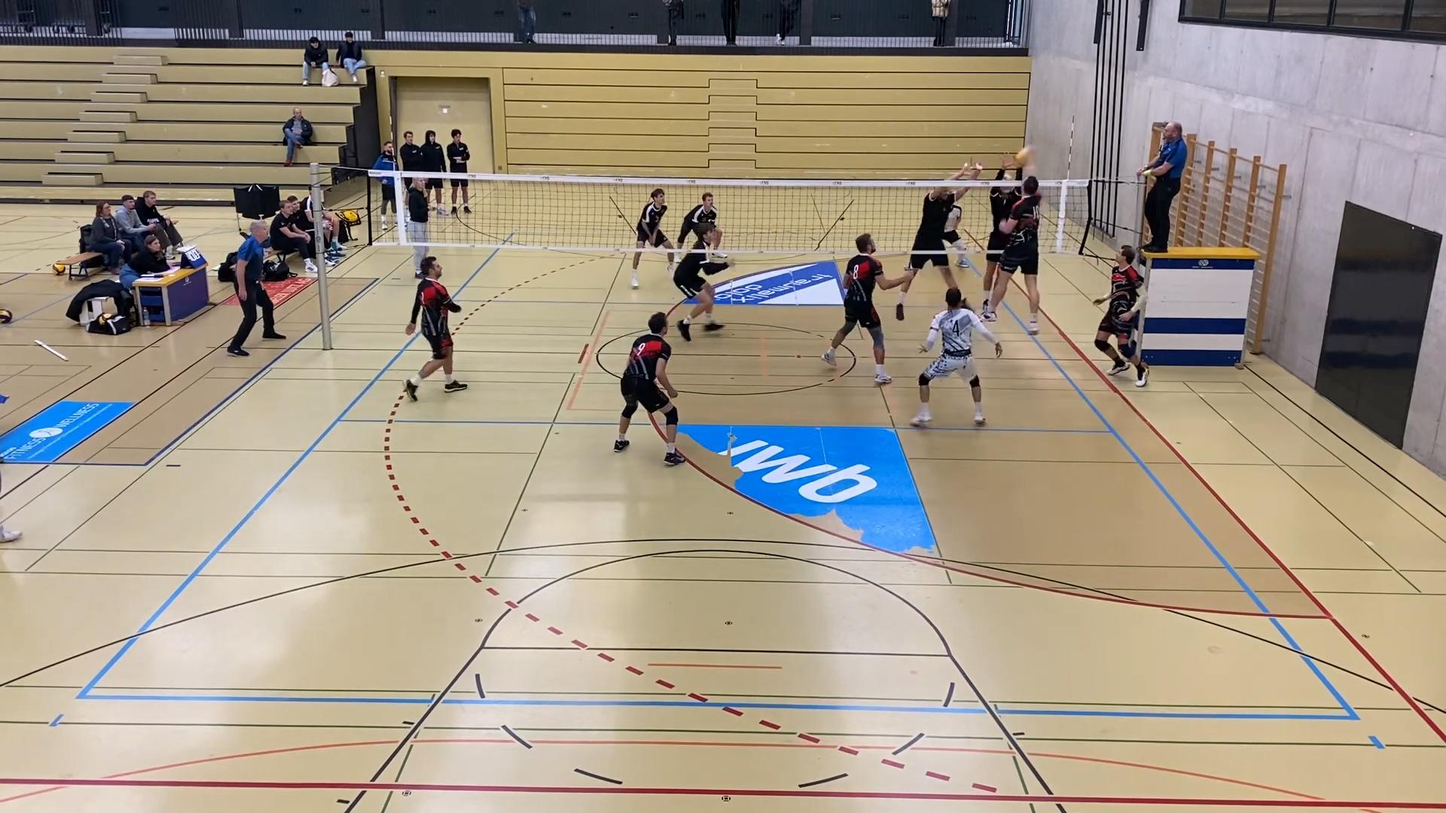Attack: (979, 174, 1047, 340)
Block: (891, 147, 986, 326), (988, 149, 1024, 202)
Player: (822, 233, 916, 384), (911, 288, 1002, 426), (614, 312, 685, 465), (404, 256, 467, 400), (1094, 245, 1149, 386), (673, 222, 733, 340), (631, 188, 674, 288), (677, 192, 717, 246), (944, 197, 967, 269)
ball: (1017, 147, 1033, 160)
